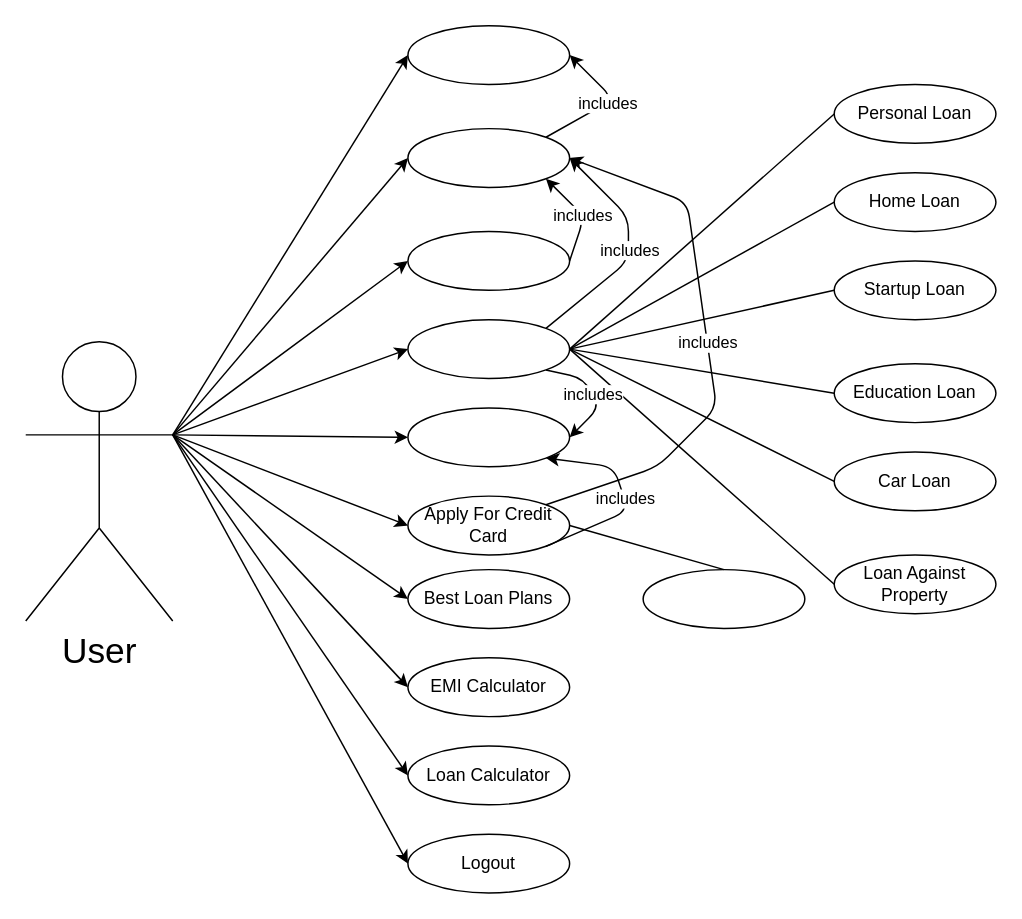
Some shapes in this 1022 by 919 pixel diagram are drawn without their labels. The centre of each missing label's shape, as x and y in pixels:
"Apply For Loan" goes at point 488,348.
"Best Credit Card Plans" goes at point 723,598.
"Compare and Apply" goes at point 488,260.
"Eligibility Check" goes at point 488,436.
"Login" goes at point 488,157.
"Sign Up" goes at point 488,54.
